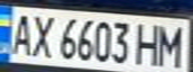0: (90, 18, 115, 64)
3: (109, 18, 136, 65)
6: (54, 14, 78, 61), (75, 16, 96, 62)
A: (6, 10, 36, 56)
H: (133, 20, 163, 66)
M: (154, 21, 190, 68)
X: (27, 11, 57, 60)
